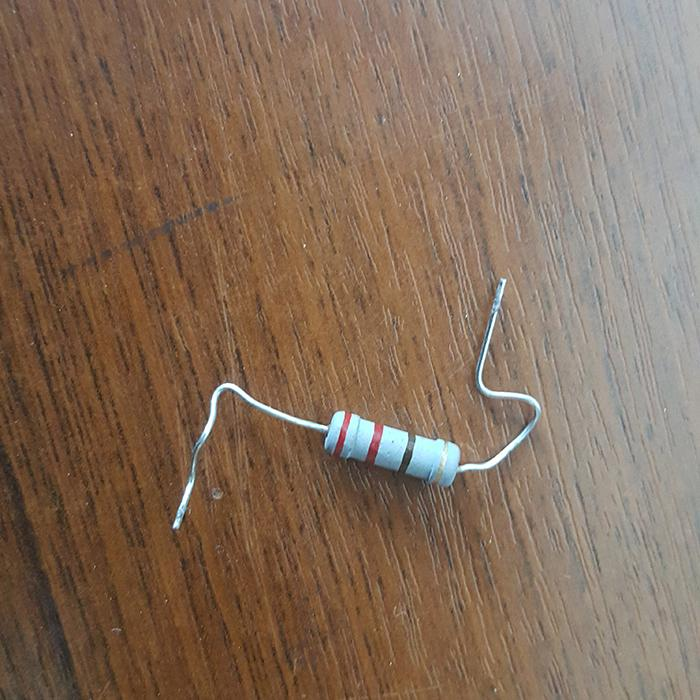resistor: (321, 407, 460, 487)
